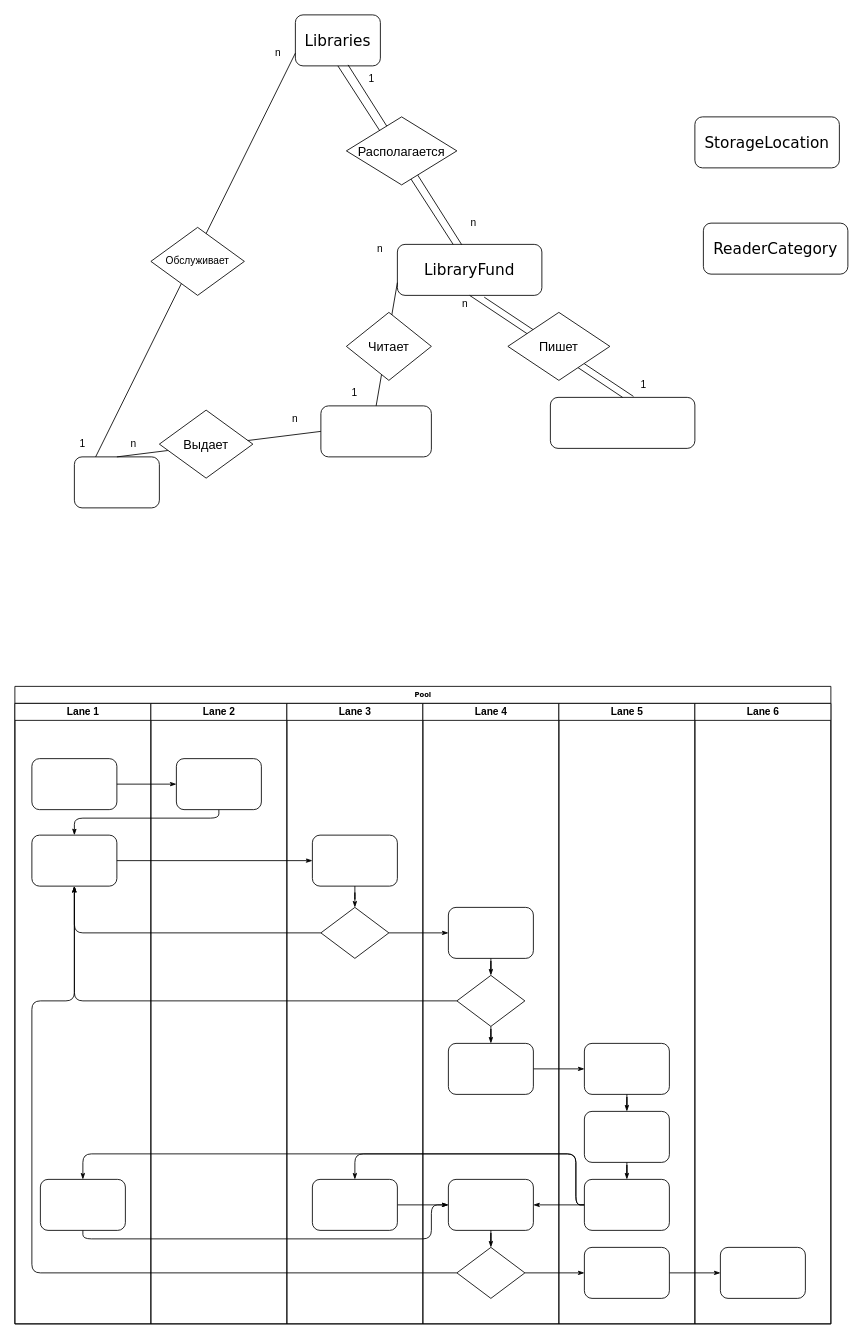
Some shapes in this 863 by 1339 pixel diagram are drawn without their labels. The centre of each missing label's shape, as x and y in pixels:
Author: pixel 622 422
Readers: pixel 375 431
Staff: pixel 116 482
